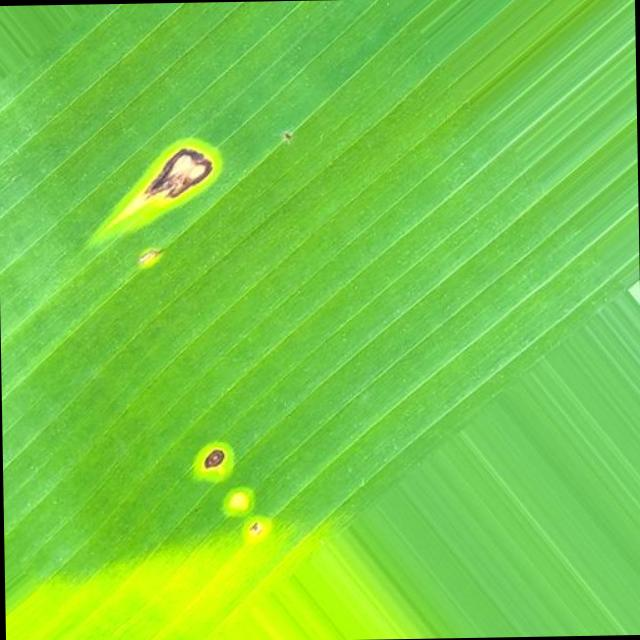Banana_Black_Sigatoka: (91, 62, 228, 244), (181, 382, 290, 570)
